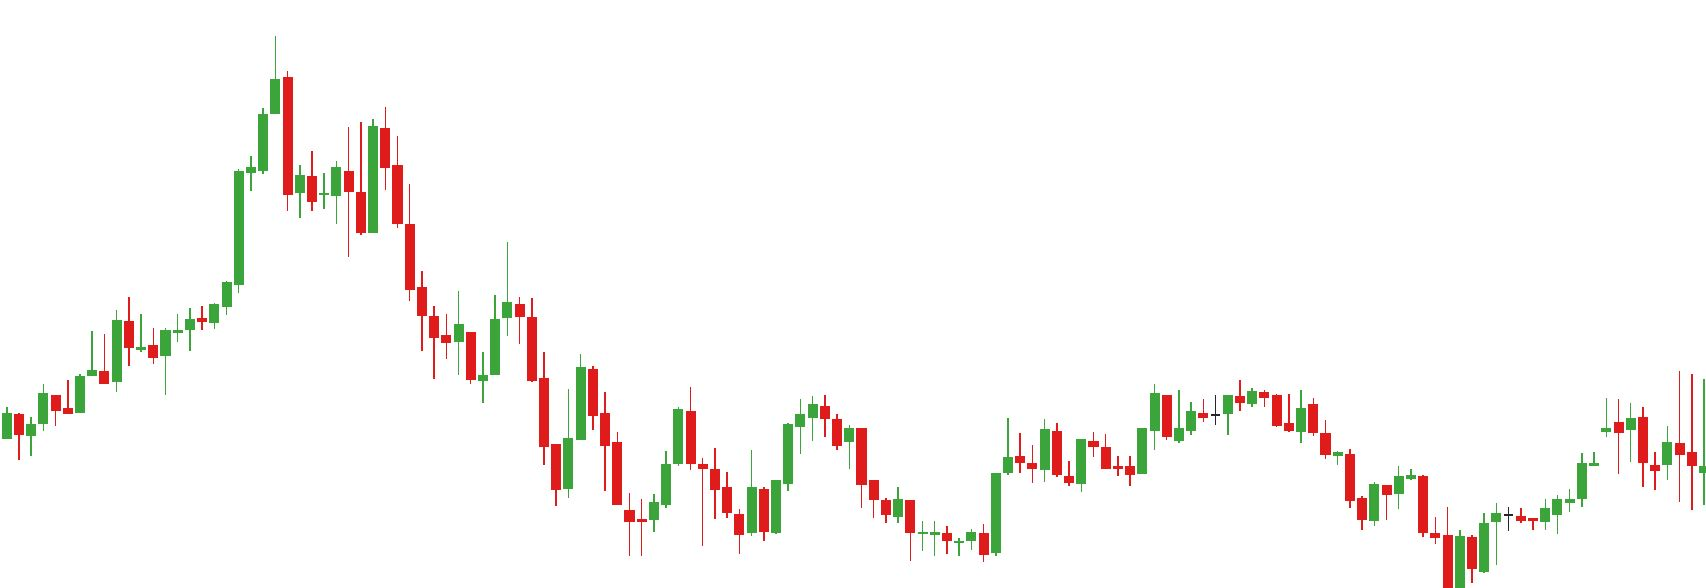buy: (549, 412, 660, 564)
sell: (452, 238, 514, 356)
